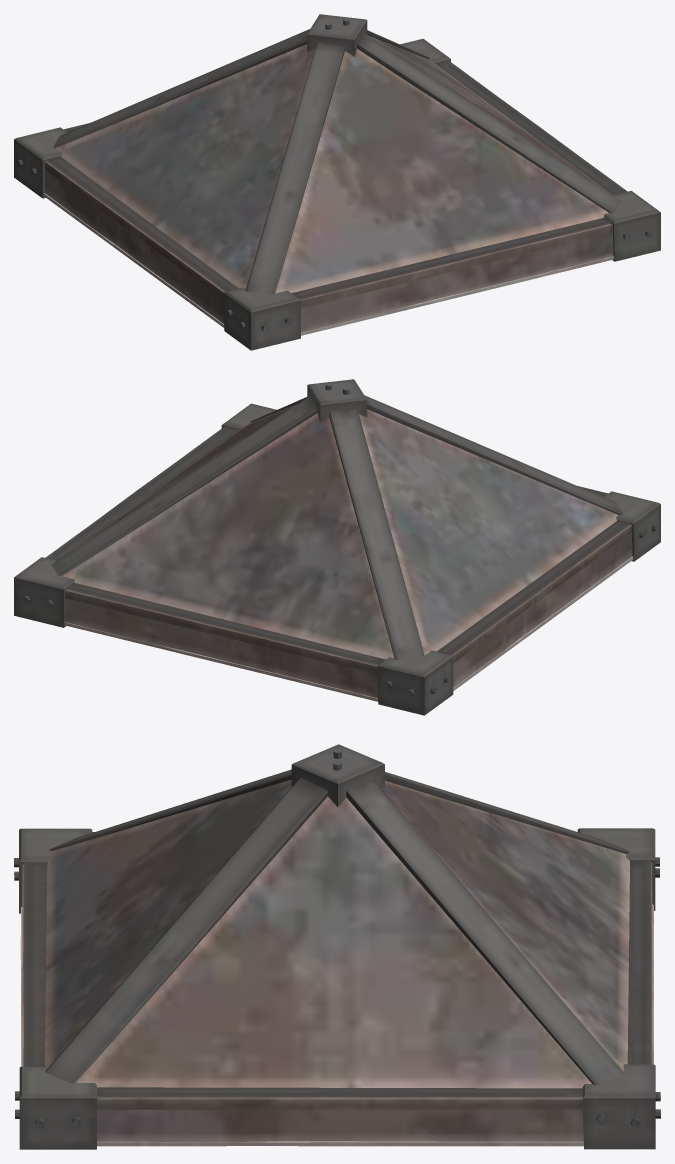
File: SM_PyramidRoof_Iron_de561f.glb
The picture shows the model from 3 angles, top to bottom: view 1: azimuth 30°, elevation 25°; view 2: azimuth 150°, elevation 25°; view 3: azimuth 270°, elevation 25°; orthographic projection. The views are drawn at different scales.
Size of the model in its own units: 4.23 by 1.86 by 4.23.
1 material, 1 textured.
